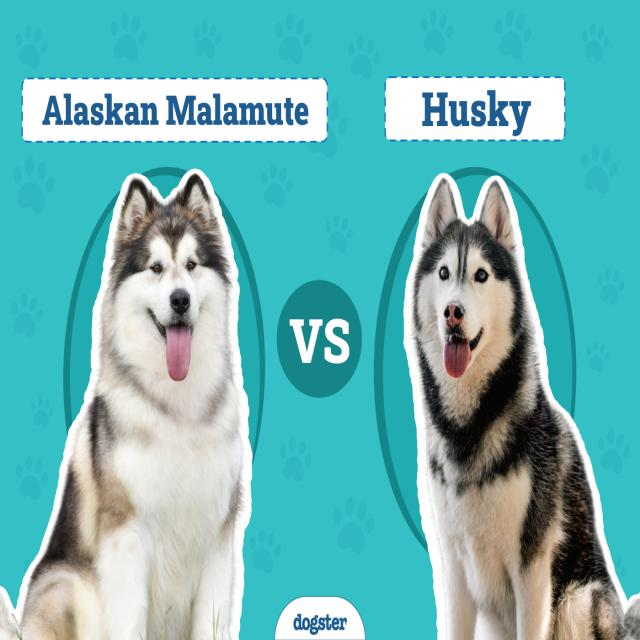ALASKAN_MALAMUTE: (0, 155, 256, 640)
